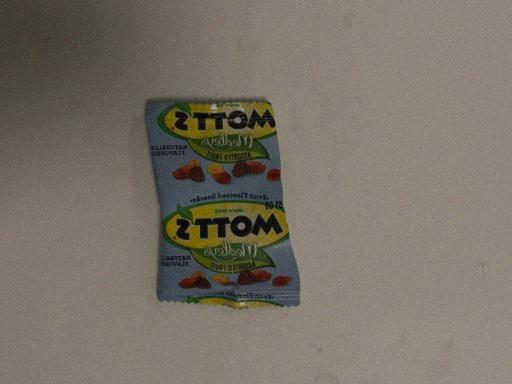trash: (143, 98, 303, 310)
